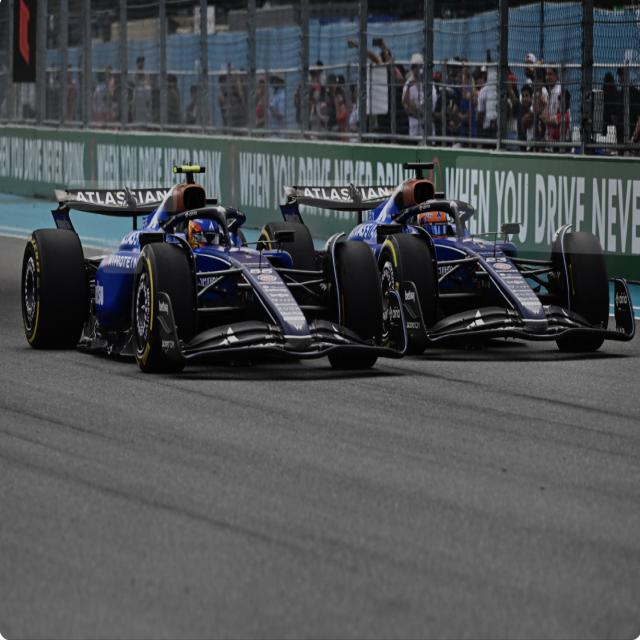Williams: (19, 164, 410, 378), (256, 160, 636, 362)
